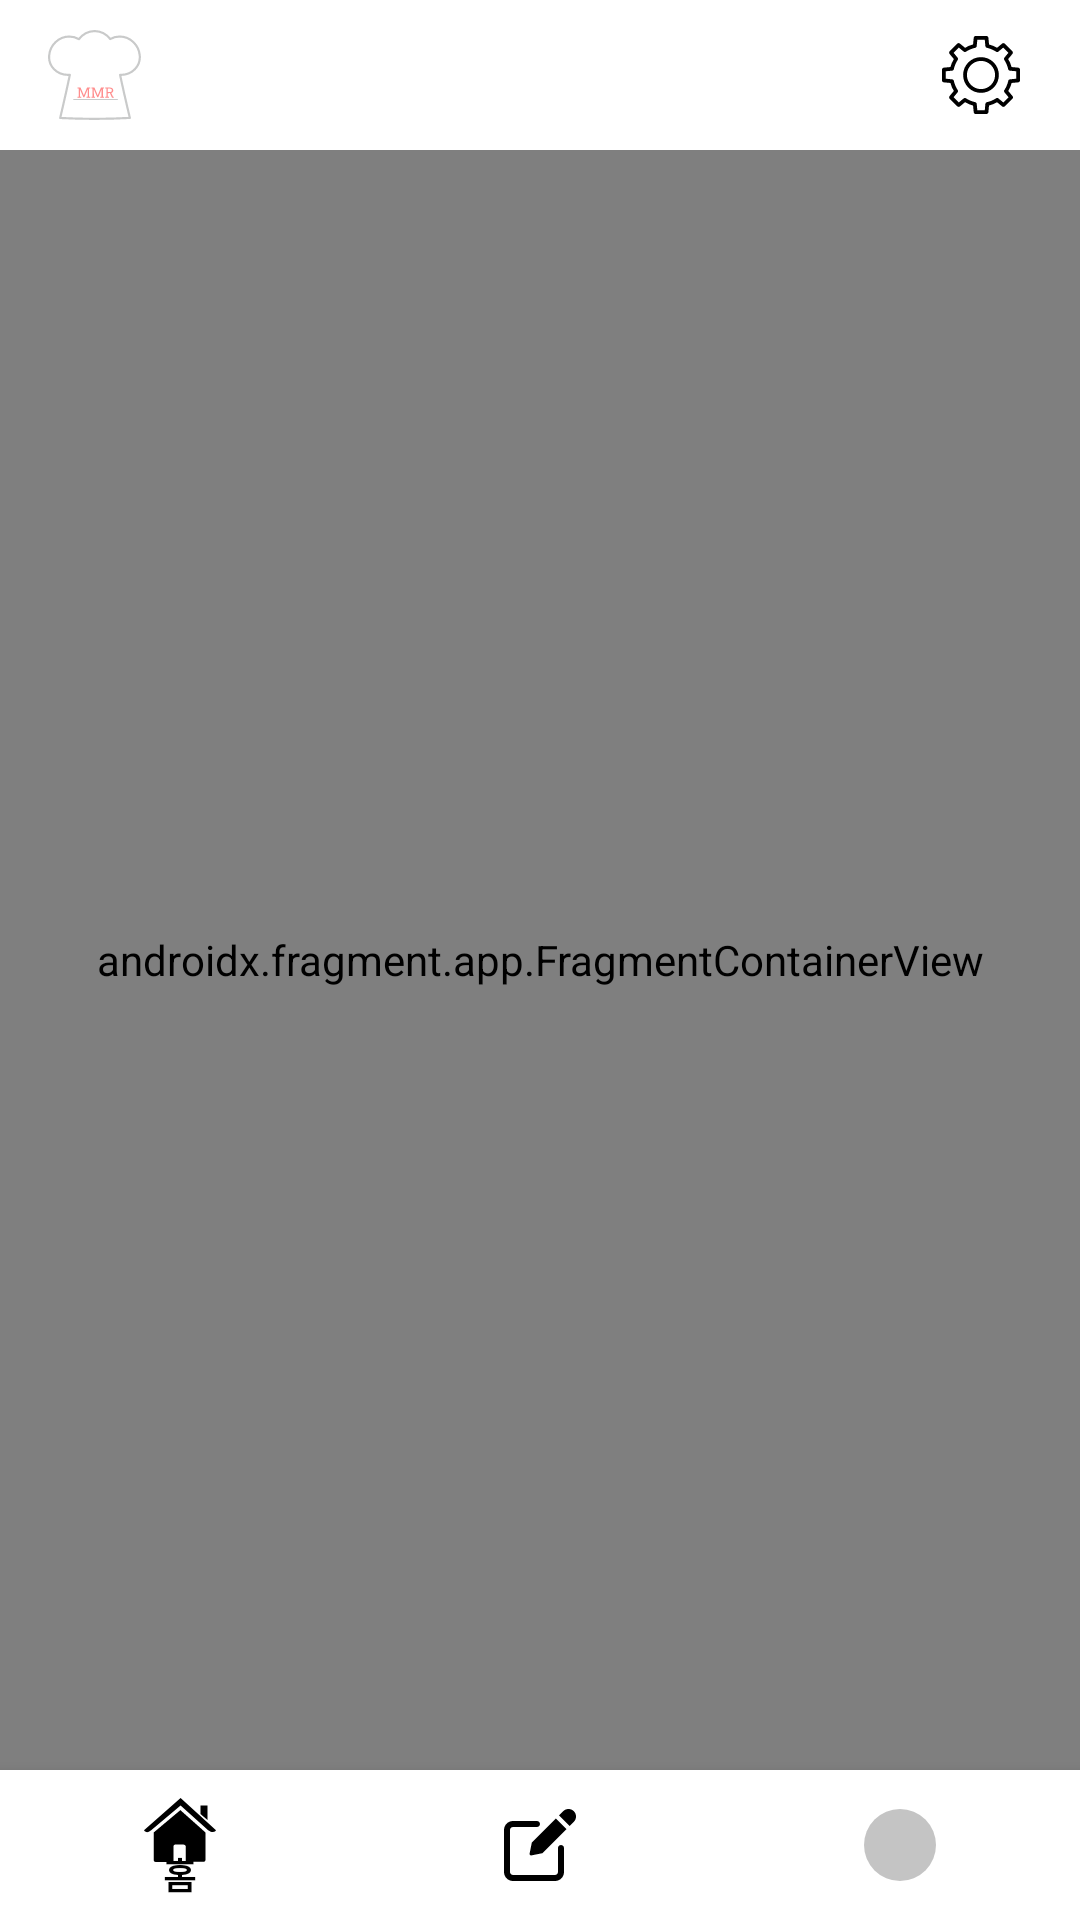

Icons on this 1080 × 1920 Android screen, each with its box as (x1, y1, x2, y2):
setting: (942, 36, 1020, 114)
